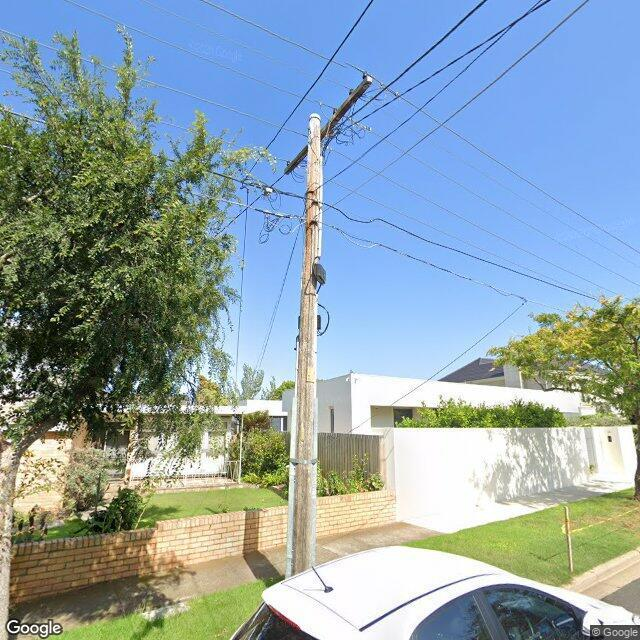crossarm: (283, 70, 374, 175)
timber-pole: (290, 114, 323, 575)
